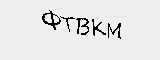В: (76, 15, 91, 38)
К: (90, 17, 106, 41)
М: (106, 19, 122, 42)
Т: (60, 12, 74, 34)
Ф: (41, 9, 64, 34)
